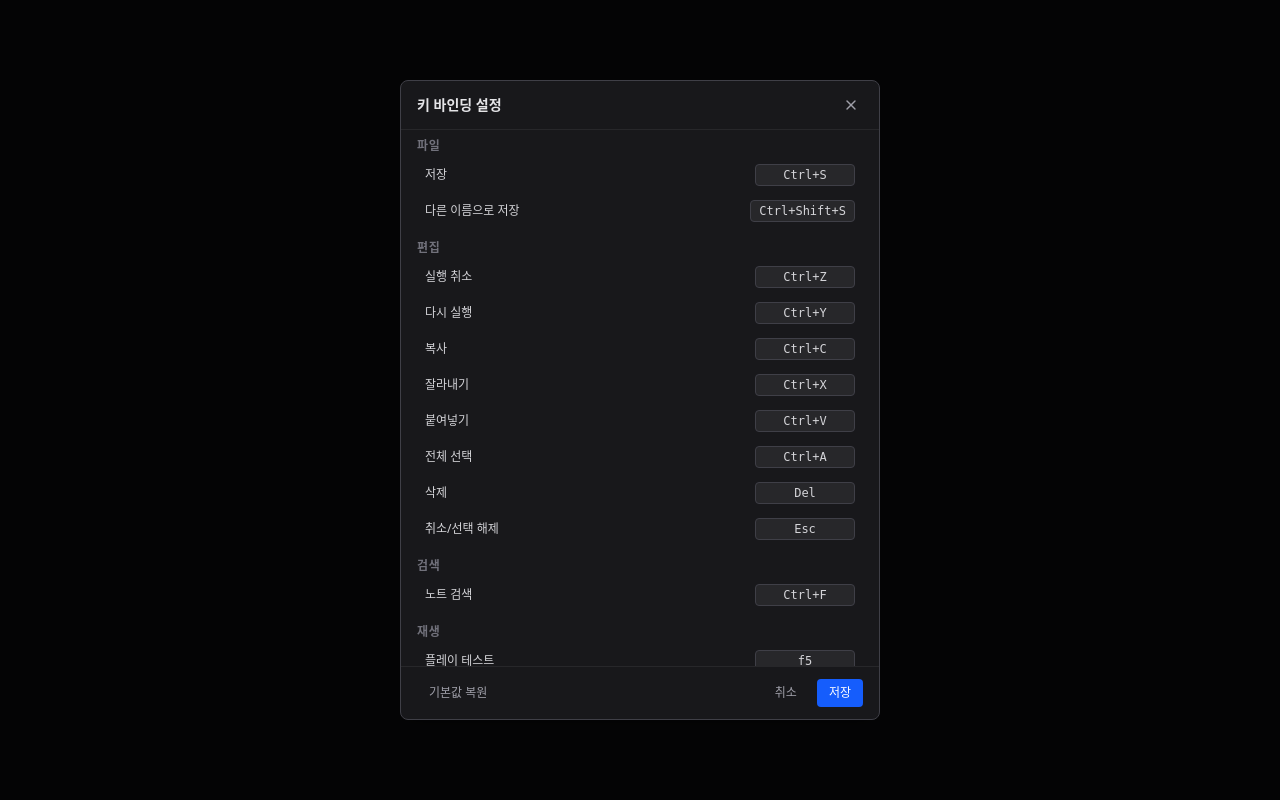
Test: KeyBindingsDialog › clears editing mode when reset is clicked
Click the button "Ctrl+S".
click(805, 175)  # box [755,164,855,186]
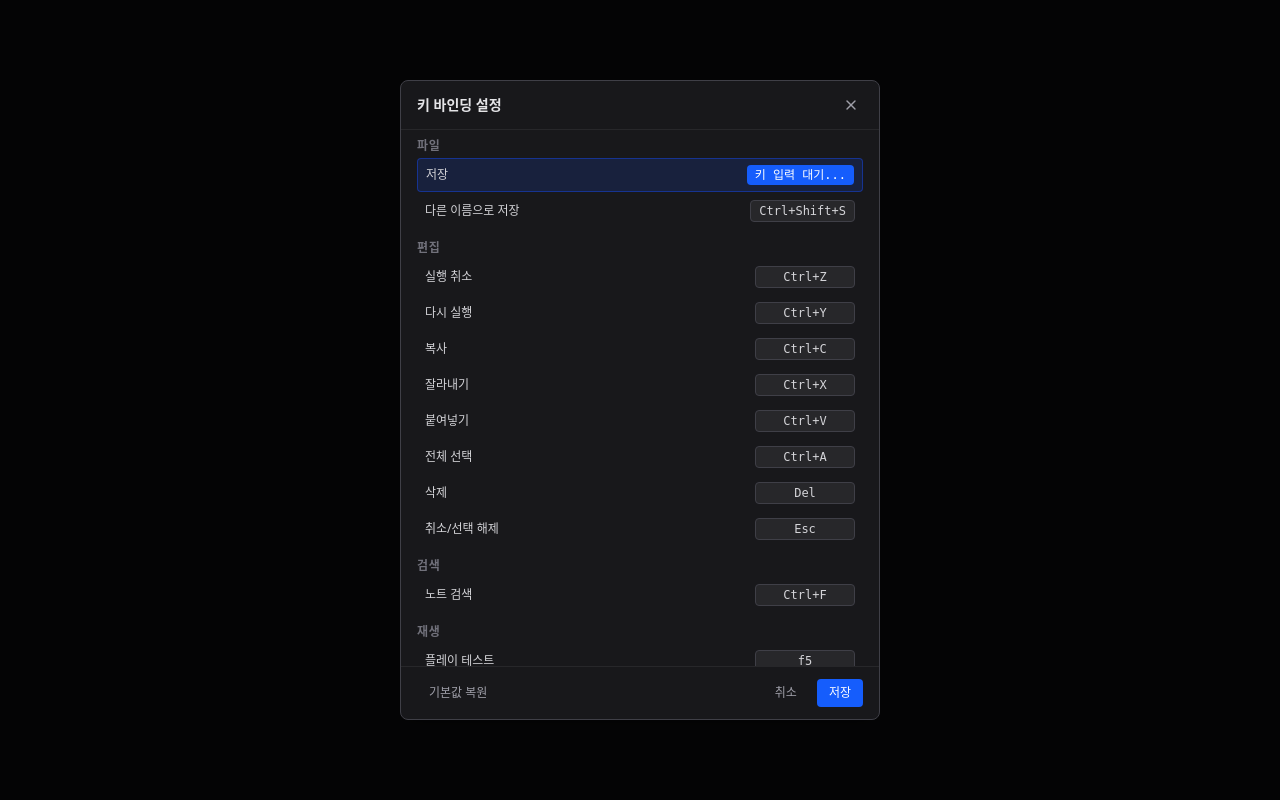
Now the button "키 입력 대기..." is shown, box [747,165,854,185]
Click the button "기본값 복원".
click(458, 693)  # box [417,679,499,707]
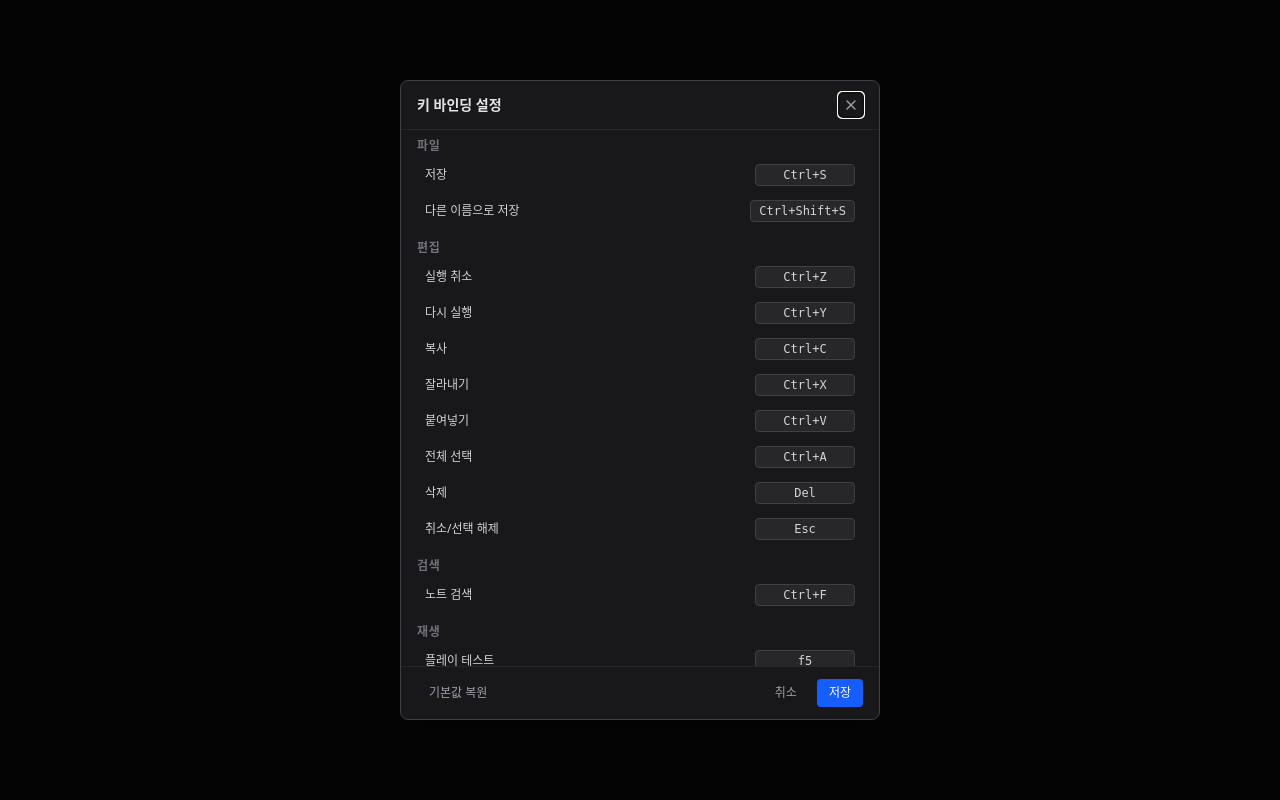
Now the button "키 입력 대기..." is gone
